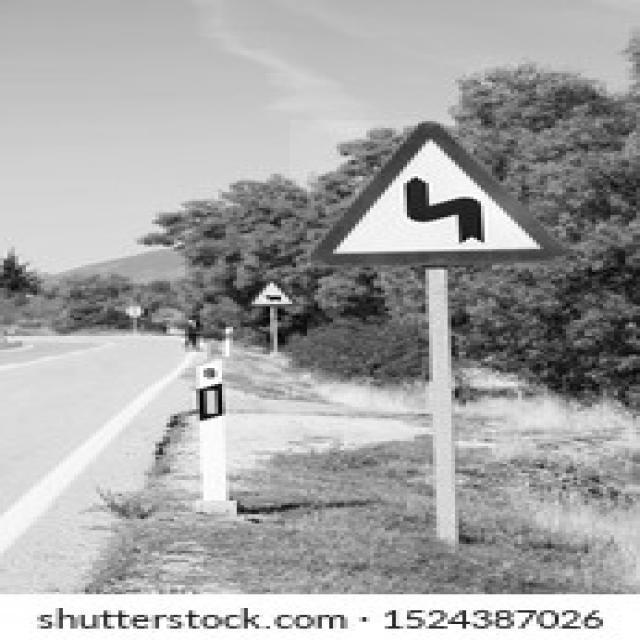left reverse bend: (308, 119, 571, 266)
